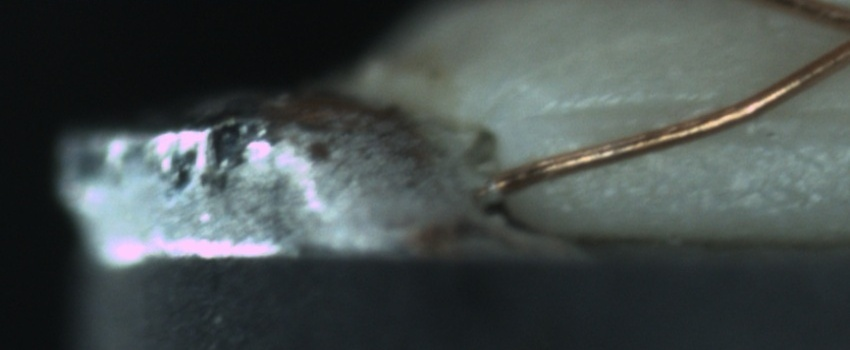DL: (555, 80, 846, 150)
